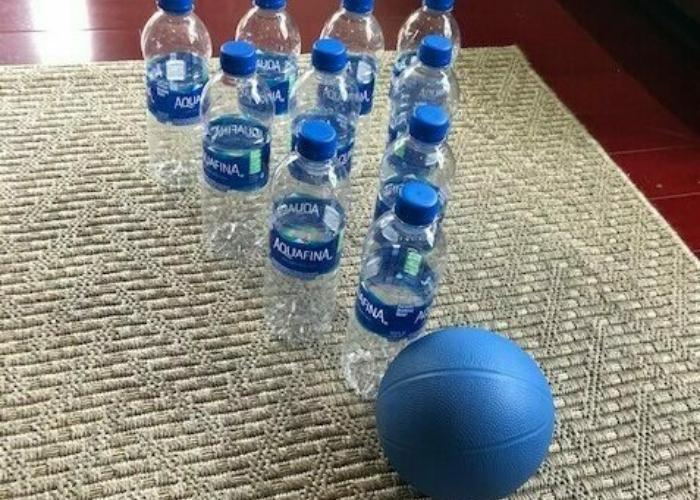bottle: (355, 176, 444, 399), (263, 115, 345, 352), (193, 40, 271, 264), (138, 0, 200, 194), (384, 31, 473, 103), (283, 39, 369, 109), (380, 106, 465, 172), (392, 0, 466, 64), (313, 0, 387, 46), (230, 0, 302, 39)
